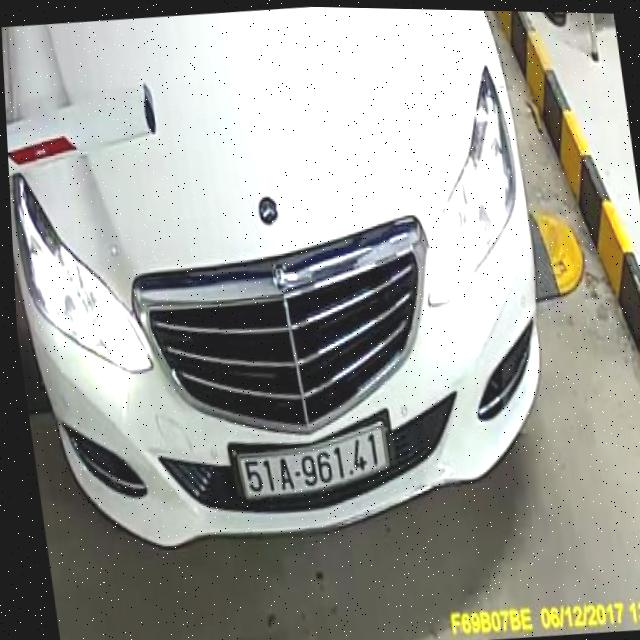car: (0, 0, 580, 568)
plate: (222, 421, 403, 508)
